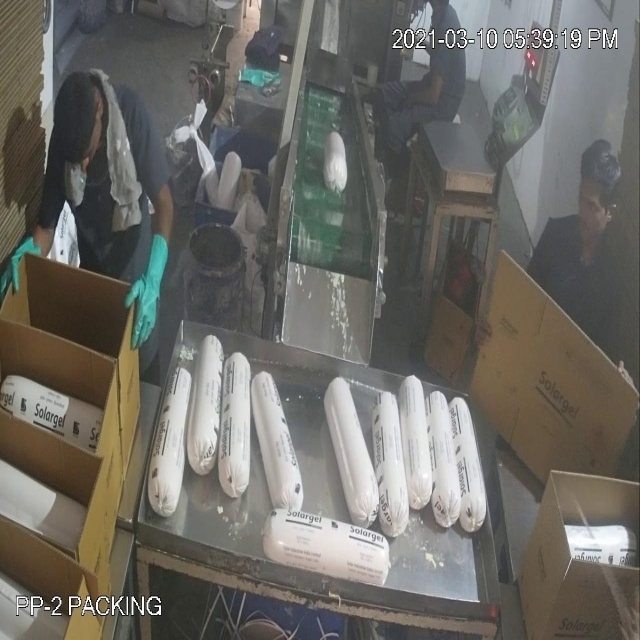Guantes: (117, 215, 181, 370)
